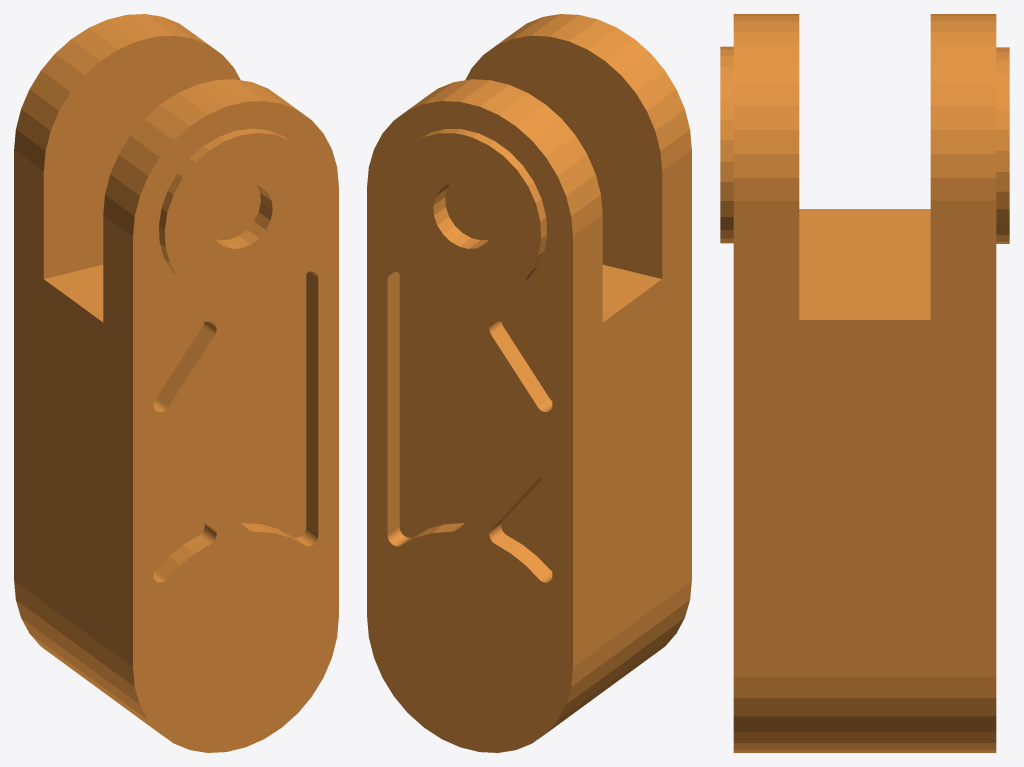
Rendered from upper_arm.dae.
3 renders of one model, left to right at view 1: azimuth 30°, elevation 25°; view 2: azimuth 150°, elevation 25°; view 3: azimuth 270°, elevation 25°, orthographic. The views are drawn at different scales.
Parts seen in each view (by area): view 1: Upper Arm; view 2: Upper Arm; view 3: Upper Arm.
Part boxes in pixels (x1,y1,x2,y2): Upper Arm: (14, 14, 338, 752); Upper Arm: (367, 14, 691, 752); Upper Arm: (720, 14, 1009, 752).
Bounding box in the file's own units: 0.1 × 0.11 × 0.2996.
